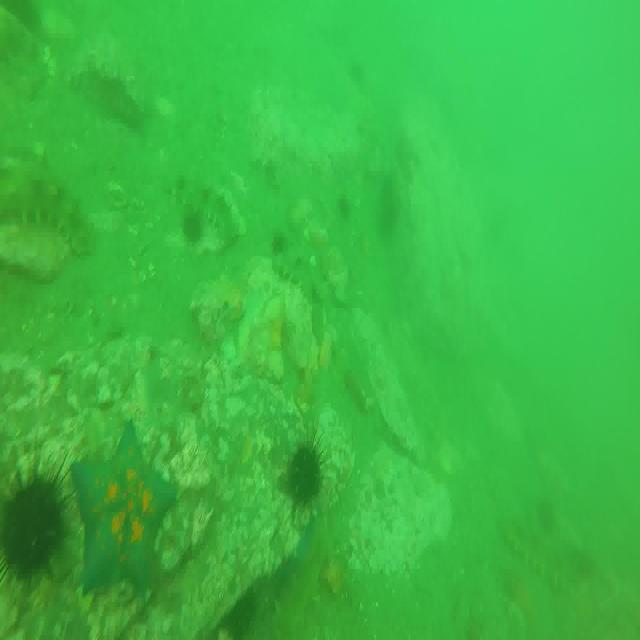echinus: (2, 465, 68, 581), (288, 441, 322, 508)
holothurian: (0, 151, 99, 257), (502, 519, 582, 592), (167, 170, 238, 238), (270, 248, 324, 324)
starfish: (73, 424, 179, 595)
